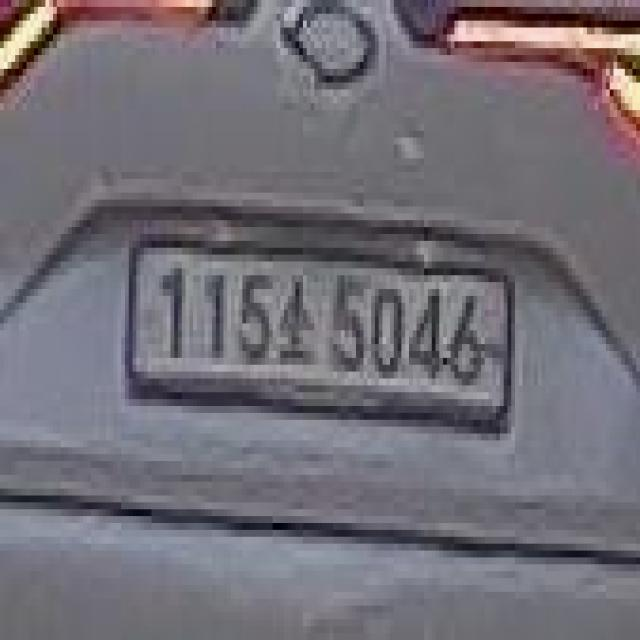illegal_plate: (123, 225, 523, 448)
